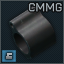CMMG Low Profile gas block: (0, 0, 64, 64)
